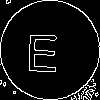E: (25, 25, 60, 72)
